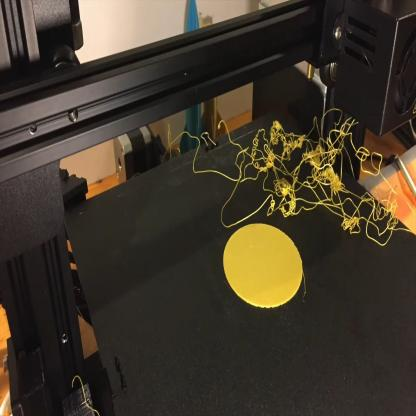fail: (239, 121, 393, 229)
